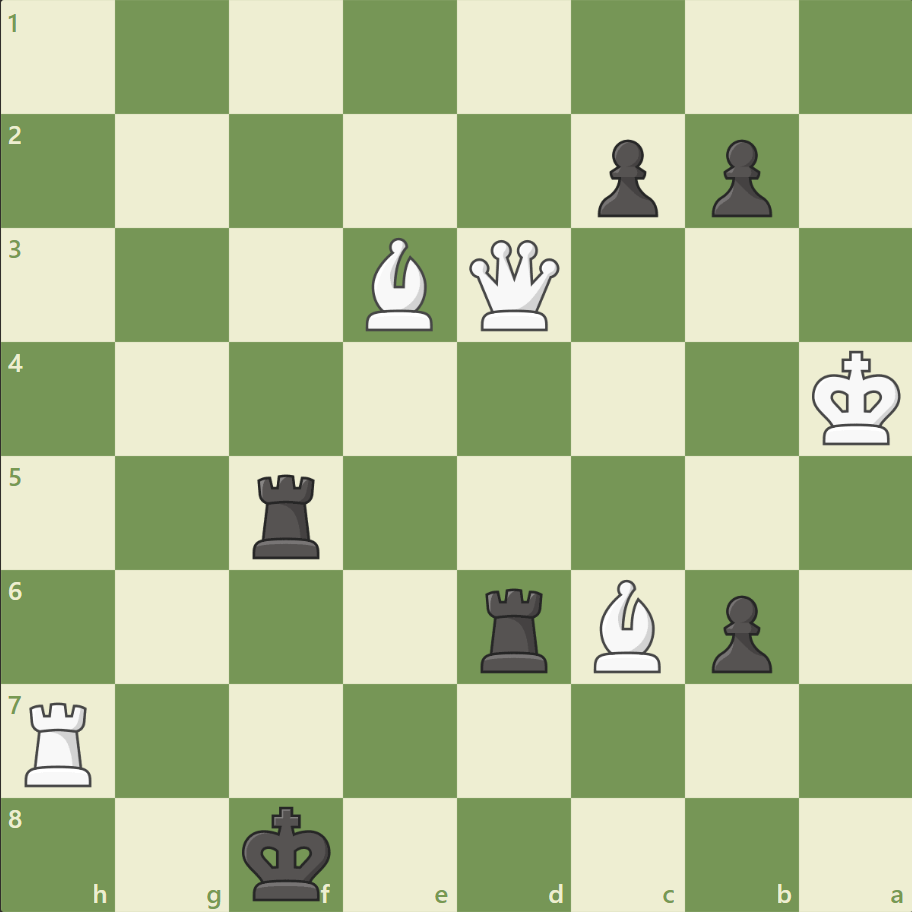B: (358, 233, 442, 336), (585, 574, 669, 676)
K: (806, 344, 906, 452)
Q: (464, 236, 563, 335)
R: (19, 693, 102, 790)
k: (238, 798, 338, 906)
p: (701, 586, 776, 677), (701, 132, 776, 223), (588, 132, 662, 223)
r: (473, 579, 556, 676), (246, 466, 329, 563)
